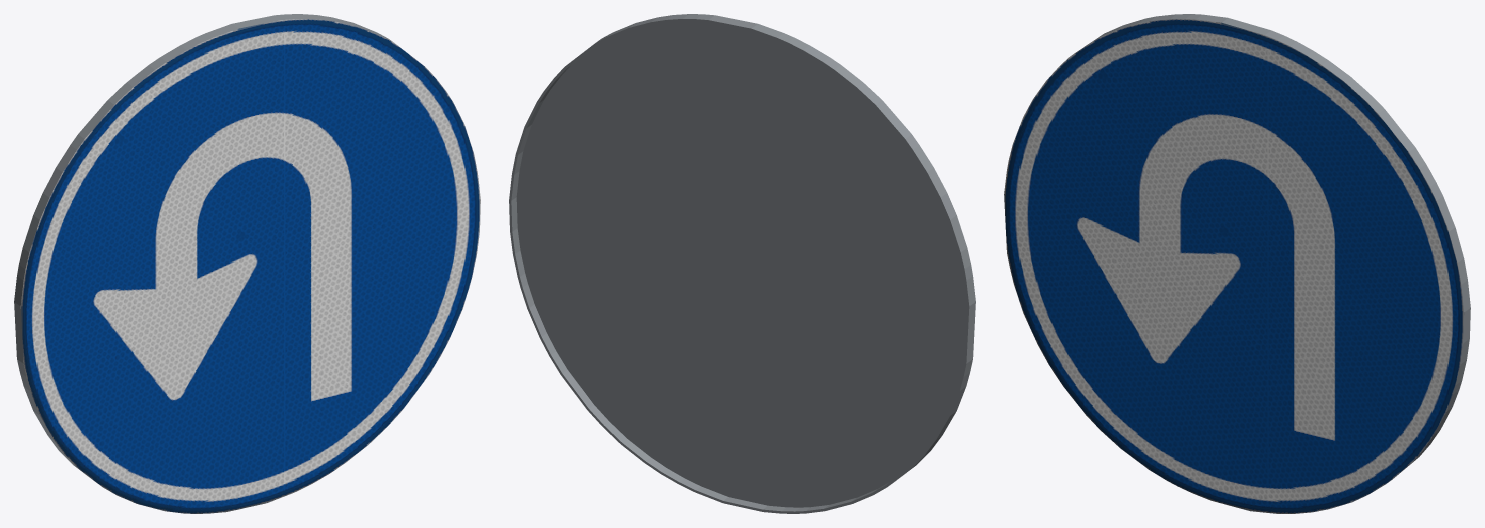
3 renders of one model, left to right at view 1: azimuth 30°, elevation 25°; view 2: azimuth 150°, elevation 25°; view 3: azimuth 330°, elevation 25°, orthographic.
Parts seen in each view (by area): view 1: cat_a212b465160a6d28; view 2: cat_a212b465160a6d28; view 3: cat_a212b465160a6d28.
Part boxes in pixels (x1,y1,x2,y2): cat_a212b465160a6d28: (14, 14, 480, 513); cat_a212b465160a6d28: (509, 14, 975, 513); cat_a212b465160a6d28: (1004, 14, 1470, 513).
Size of the model in its own units: 0.6 by 0.015 by 0.6.
2 materials, 1 textured.
